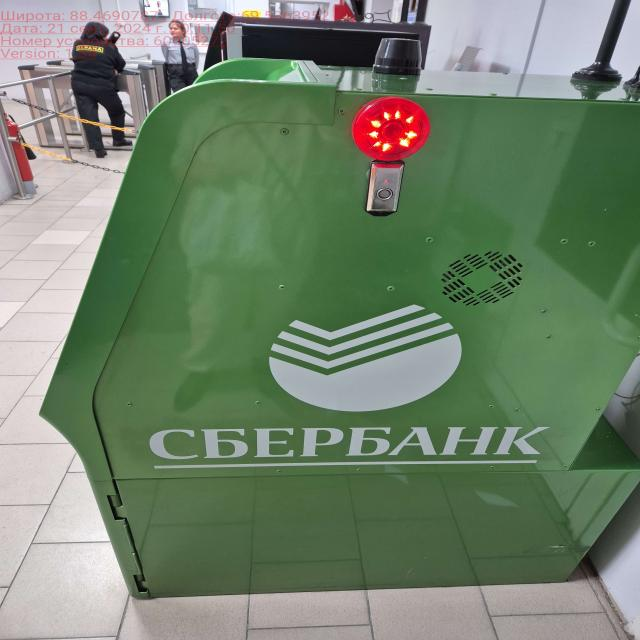bank: (39, 59, 640, 602)
